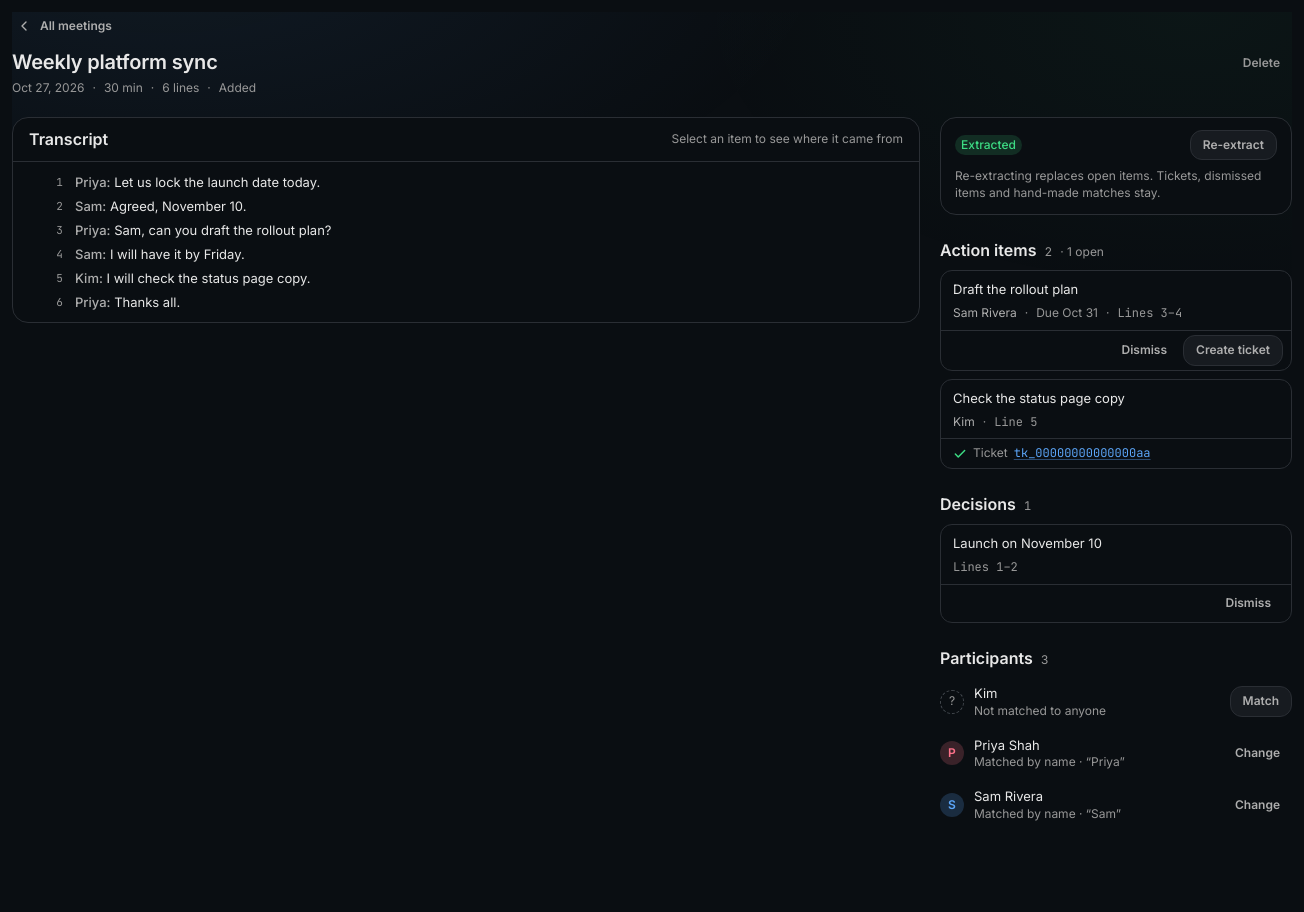
Test: MeetingDetailView › dismisses and restores an item, re-rendering it each time
Click the button with aria-label "Dismiss: Draft the rollout plan" at x=1144, y=350, box [1110,336,1179,365]
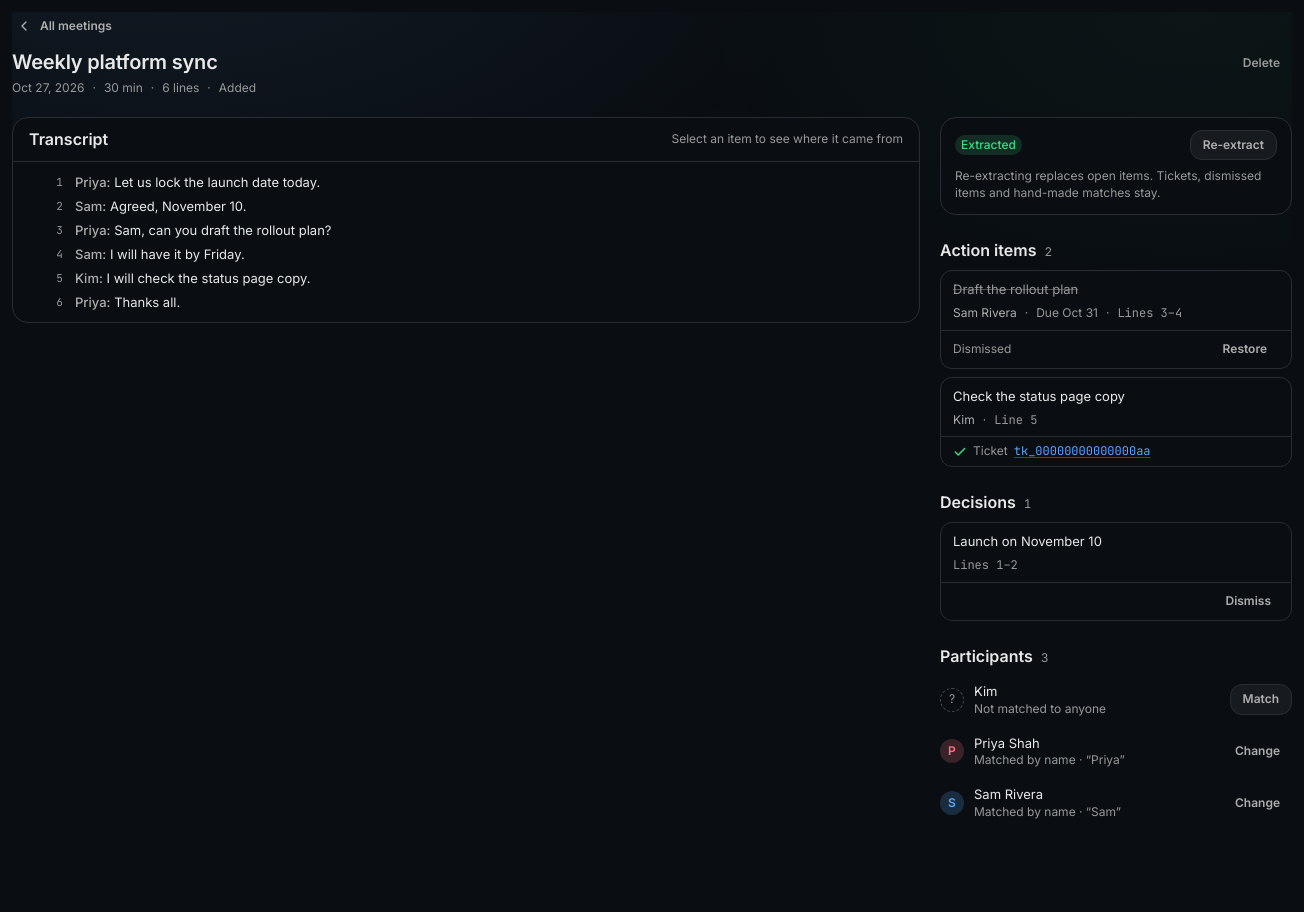
Click the button with aria-label "Restore: Draft the rollout plan" at x=1245, y=349, box [1211,335,1279,364]
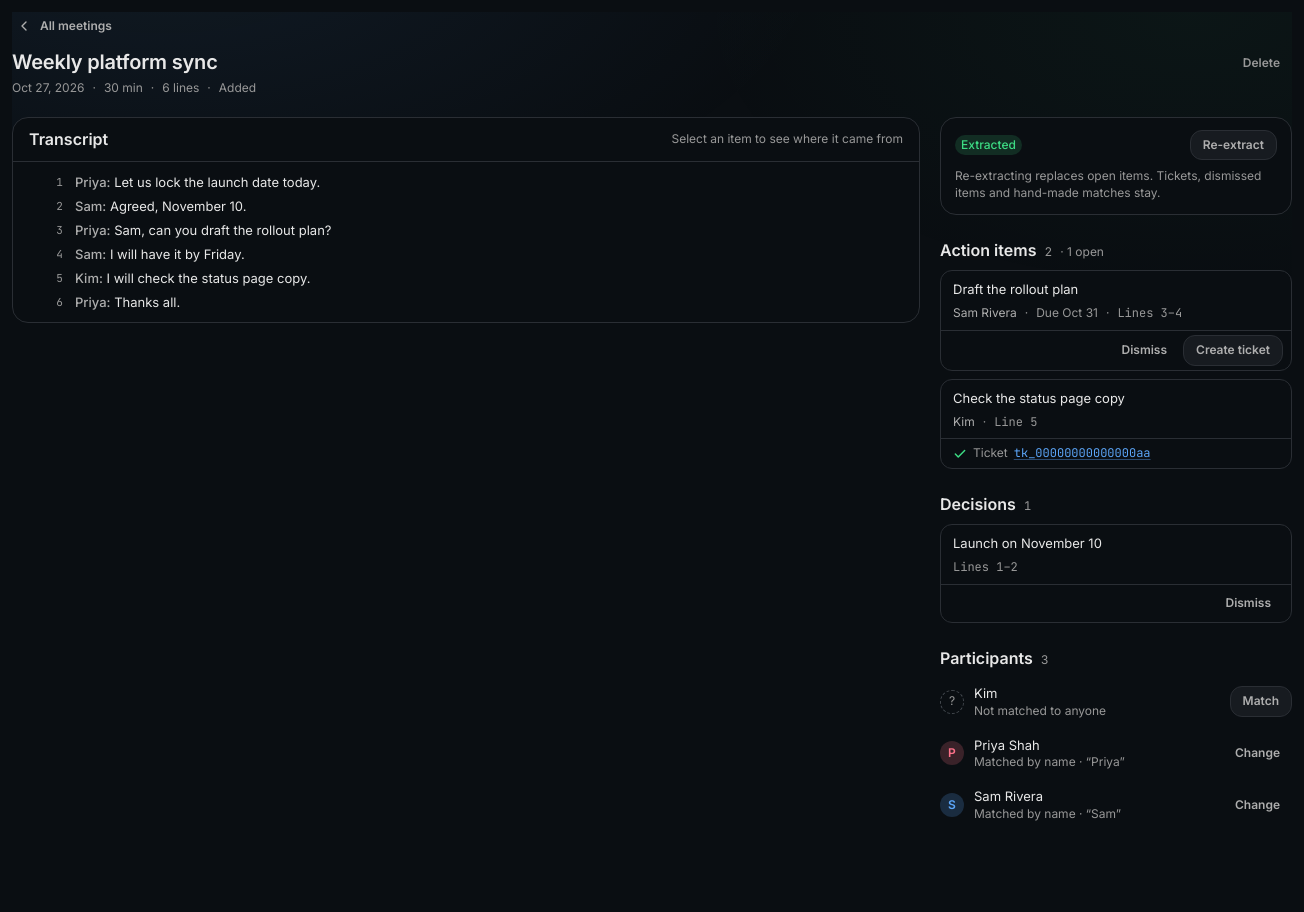
Now the button with aria-label "Create ticket: Draft the rollout plan" is shown, box [1183,335,1283,366]
